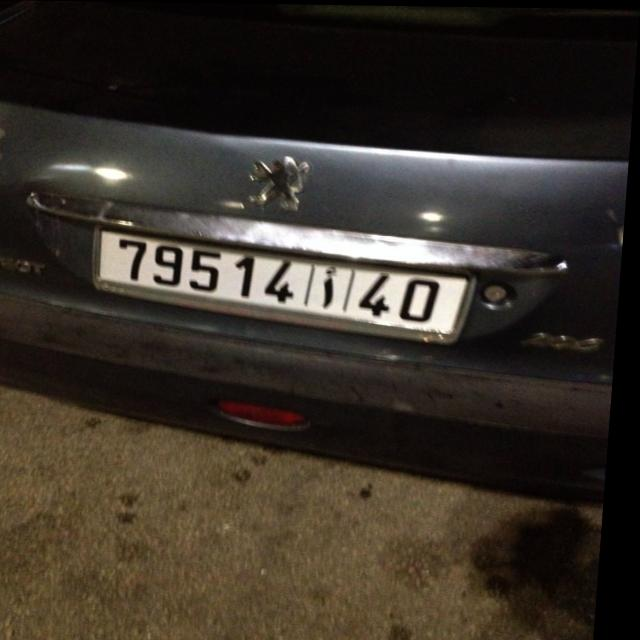License-Plate: (99, 229, 475, 341)
